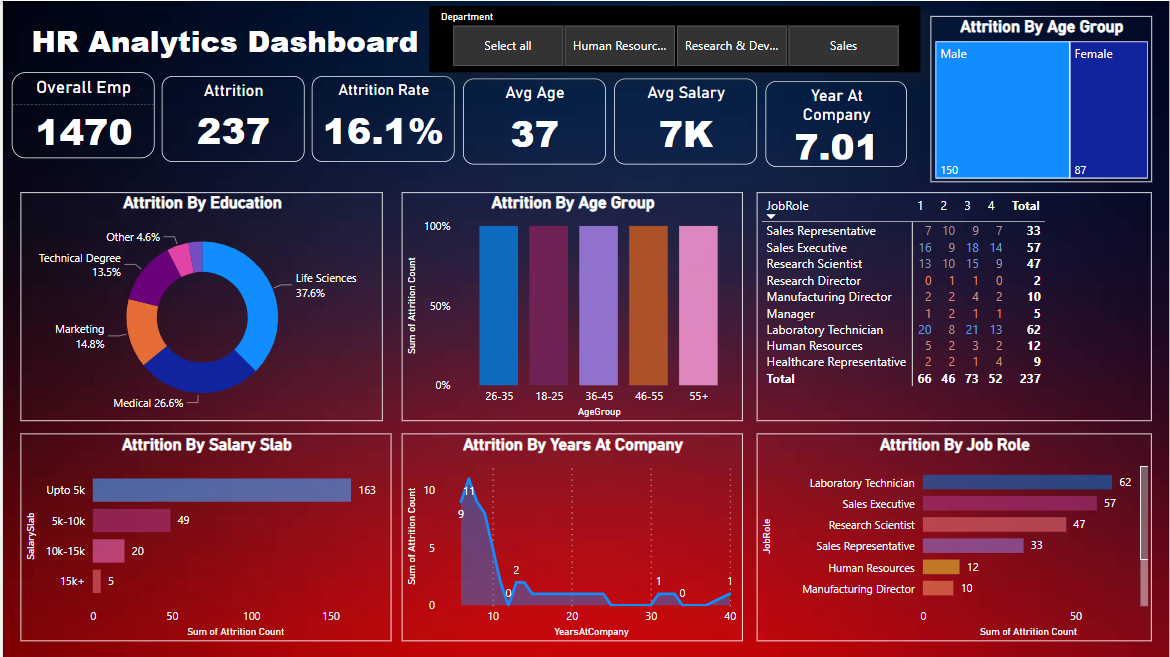

The dashboard page shown, as its layout file describes it:
{"tool":"powerbi","page":{"name":"Page 1","canvas":[1280,720],"ordinal":0},"visuals":[{"type":"card","title":"Overall Emp","fields":{"Values":["CountNonNull(HR_Analytics.EmpID)"]},"box":[9.6,78.2,156.4,94.7],"z":0},{"type":"card","title":"Attrition","fields":{"Values":["Sum(HR_Analytics.Attrition Count)"]},"box":[174.3,82.3,156.4,94.7],"z":1000},{"type":"card","title":"Attrition Rate","fields":{"Values":["HR_Analytics.attrition rate"]},"box":[338.9,82.3,156.4,94.7],"z":2000},{"type":"card","title":"Avg Salary","fields":{"Values":["Avg(HR_Analytics.MonthlyIncome)"]},"box":[671,85.1,156.4,94.7],"z":3000},{"type":"card","title":"Avg Age","fields":{"Values":["Avg(HR_Analytics.Age)"]},"box":[505,85.1,156.4,94.7],"z":4000},{"type":"card","title":"Year At Company","fields":{"Values":["Avg(HR_Analytics.YearsAtCompany)"]},"box":[837.1,87.8,155.1,94.7],"z":5000},{"type":"textbox","box":[19.2,16.5,448.7,61.7],"z":6000},{"type":"donutChart","title":"Attrition By Education","fields":{"Category":["HR_Analytics.EducationField"],"Y":["Sum(HR_Analytics.Attrition Count)"]},"box":[19.2,209.9,397.9,251.1],"z":7000},{"type":"hundredPercentStackedColumnChart","title":"Attrition By Age Group","fields":{"Category":["HR_Analytics.AgeGroup"],"Y":["Sum(HR_Analytics.Attrition Count)"]},"box":[437.7,209.9,374.6,251.1],"z":8000},{"type":"pivotTable","fields":{"Rows":["HR_Analytics.JobRole"],"Columns":["HR_Analytics.JobSatisfaction"],"Values":["Sum(HR_Analytics.Attrition Count)"]},"box":[827.4,209.9,433.6,251.1],"z":9000},{"type":"clusteredBarChart","title":"Attrition By Salary Slab","fields":{"Category":["HR_Analytics.SalarySlab"],"Y":["Sum(HR_Analytics.Attrition Count)"]},"box":[19.2,474.8,407.5,227.8],"z":10000},{"type":"clusteredBarChart","title":"Attrition By Job Role","fields":{"Category":["HR_Analytics.JobRole"],"Y":["Sum(HR_Analytics.Attrition Count)"]},"box":[827.4,474.8,433.6,227.8],"z":11000},{"type":"areaChart","title":"Attrition By Years At Company","fields":{"Category":["HR_Analytics.YearsAtCompany"],"Y":["Sum(HR_Analytics.Attrition Count)"]},"box":[437.7,474.8,374.6,227.8],"z":12000},{"type":"slicer","fields":{"Values":["HR_Analytics.Department"]},"box":[467.9,5.5,539.3,72.7],"z":13000},{"type":"treemap","title":"Attrition By Age Group","fields":{"Values":["Sum(HR_Analytics.Attrition Count)"],"Group":["HR_Analytics.Gender"]},"box":[1018.2,16.5,242.9,182.5],"z":14000}]}

Visuals, with their boxes in screenshot pixels (x1, y1, x2, y2), scaled from the page's 1280x720 canvas onto the 1170x657 screenshot:
"Overall Emp" card: l=9, t=71, r=152, b=158
"Attrition" card: l=159, t=75, r=302, b=162
"Attrition Rate" card: l=310, t=75, r=453, b=162
"Avg Salary" card: l=613, t=78, r=756, b=164
"Avg Age" card: l=462, t=78, r=605, b=164
"Year At Company" card: l=765, t=80, r=907, b=167
textbox: l=18, t=15, r=428, b=71
"Attrition By Education" donutChart: l=18, t=192, r=381, b=421
"Attrition By Age Group" hundredPercentStackedColumnChart: l=400, t=192, r=742, b=421
pivotTable - HR_Analytics.JobRole x HR_Analytics.JobSatisfaction: l=756, t=192, r=1153, b=421
"Attrition By Salary Slab" clusteredBarChart: l=18, t=433, r=390, b=641
"Attrition By Job Role" clusteredBarChart: l=756, t=433, r=1153, b=641
"Attrition By Years At Company" areaChart: l=400, t=433, r=742, b=641
slicer - HR_Analytics.Department: l=428, t=5, r=921, b=71
"Attrition By Age Group" treemap: l=931, t=15, r=1153, b=182
